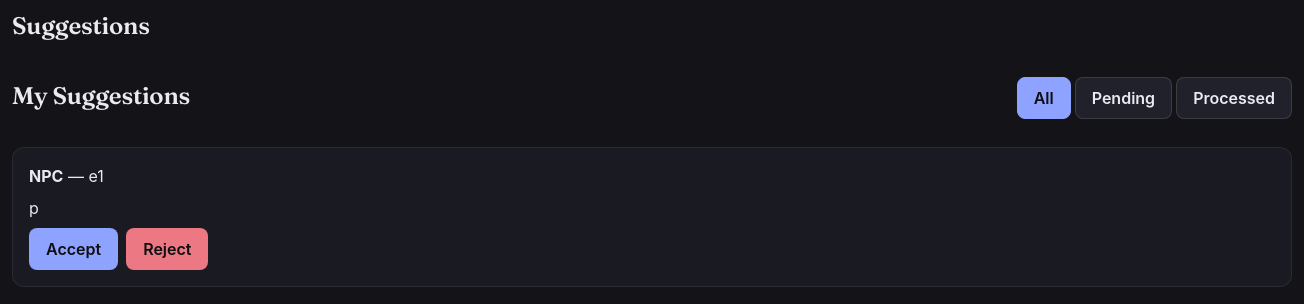
it: SuggestionsPage › shows a filter-scoped empty state when a filter hides every row
Click the button "Processed": (1234, 98) 1176,77 -> 1292,119
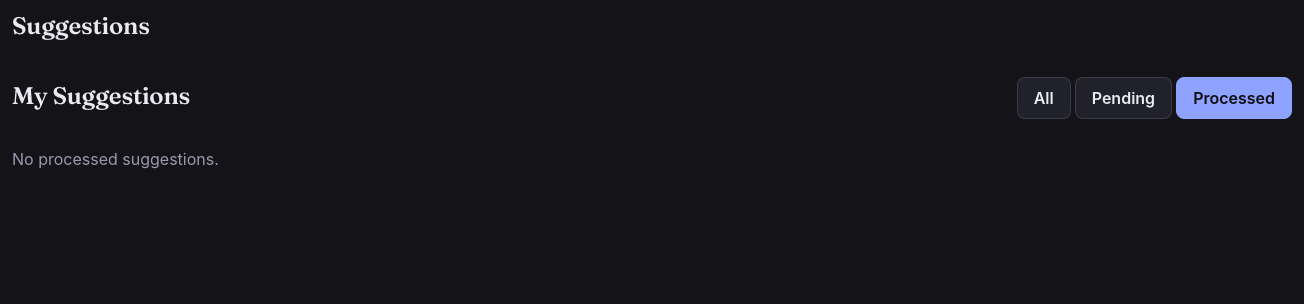
Now the text "No processed suggestions." is shown, box 12,149 -> 219,169
